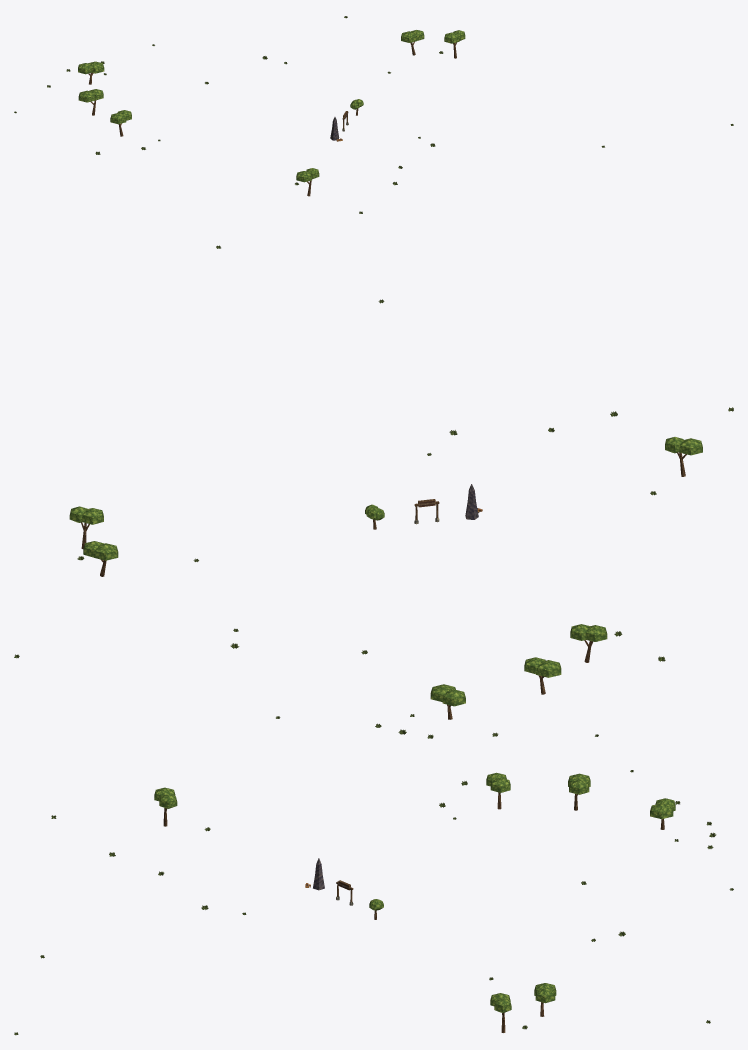
The model's file is FieldCell_5_4.fbx.
The picture shows the model from 3 angles, top to bottom: view 1: azimuth 30°, elevation 25°; view 2: azimuth 150°, elevation 25°; view 3: azimuth 270°, elevation 25°; orthographic projection. The views are drawn at different scales.
Visible parts, largest first — view 1: FieldCell_5_4; view 2: FieldCell_5_4; view 3: FieldCell_5_4, FieldLeaves_5_4.
Part boxes in pixels (x1,y1,x2,y2): FieldCell_5_4: (78, 30, 465, 196); FieldCell_5_4: (69, 437, 702, 719); FieldCell_5_4: (154, 772, 675, 1032); FieldLeaves_5_4: (14, 770, 733, 1035).
Size of the model in its own units: 14485 by 1601 by 13949.
